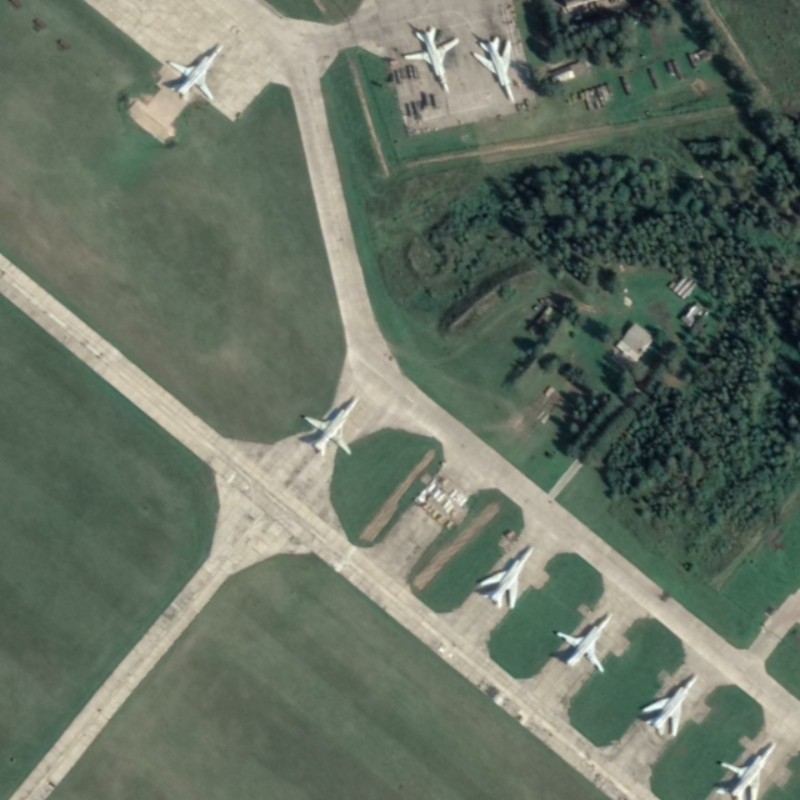A12: (468, 538, 538, 613), (636, 669, 702, 741), (552, 606, 618, 677), (398, 20, 460, 95), (709, 738, 780, 800), (298, 391, 360, 460), (466, 32, 523, 107), (157, 39, 222, 101)
